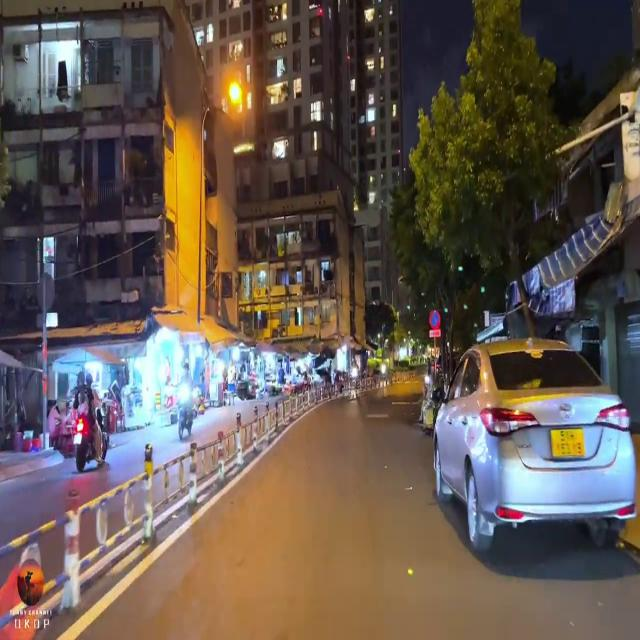bien_vang: (549, 427, 589, 460)
